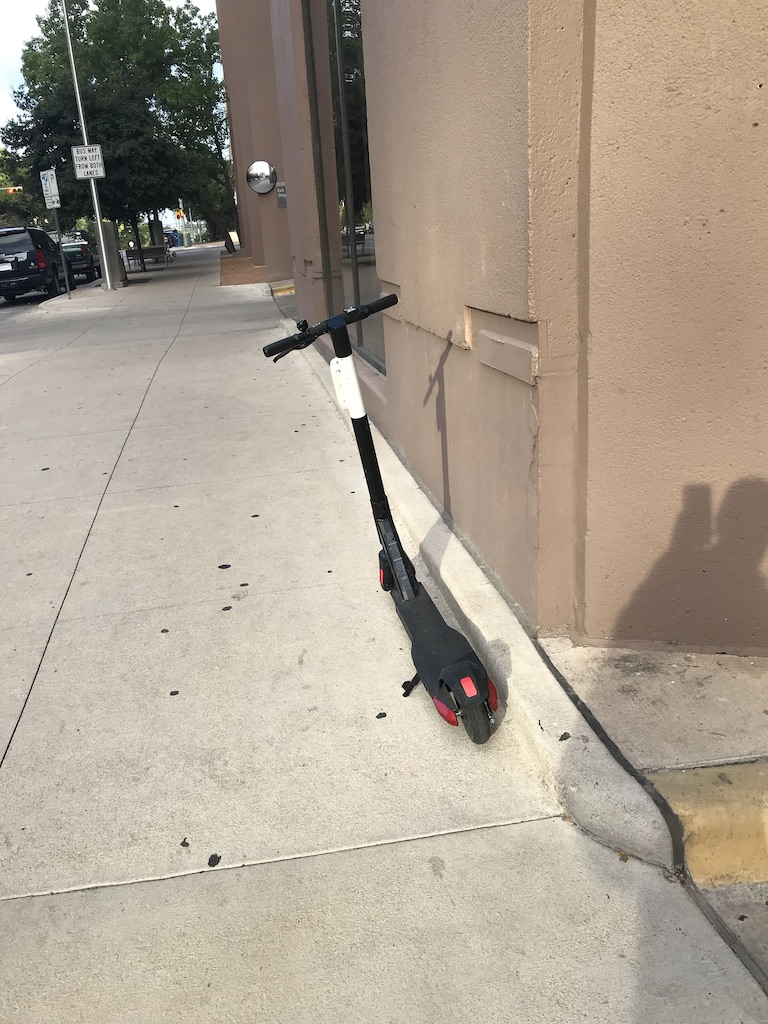scooter: (261, 295, 499, 748)
